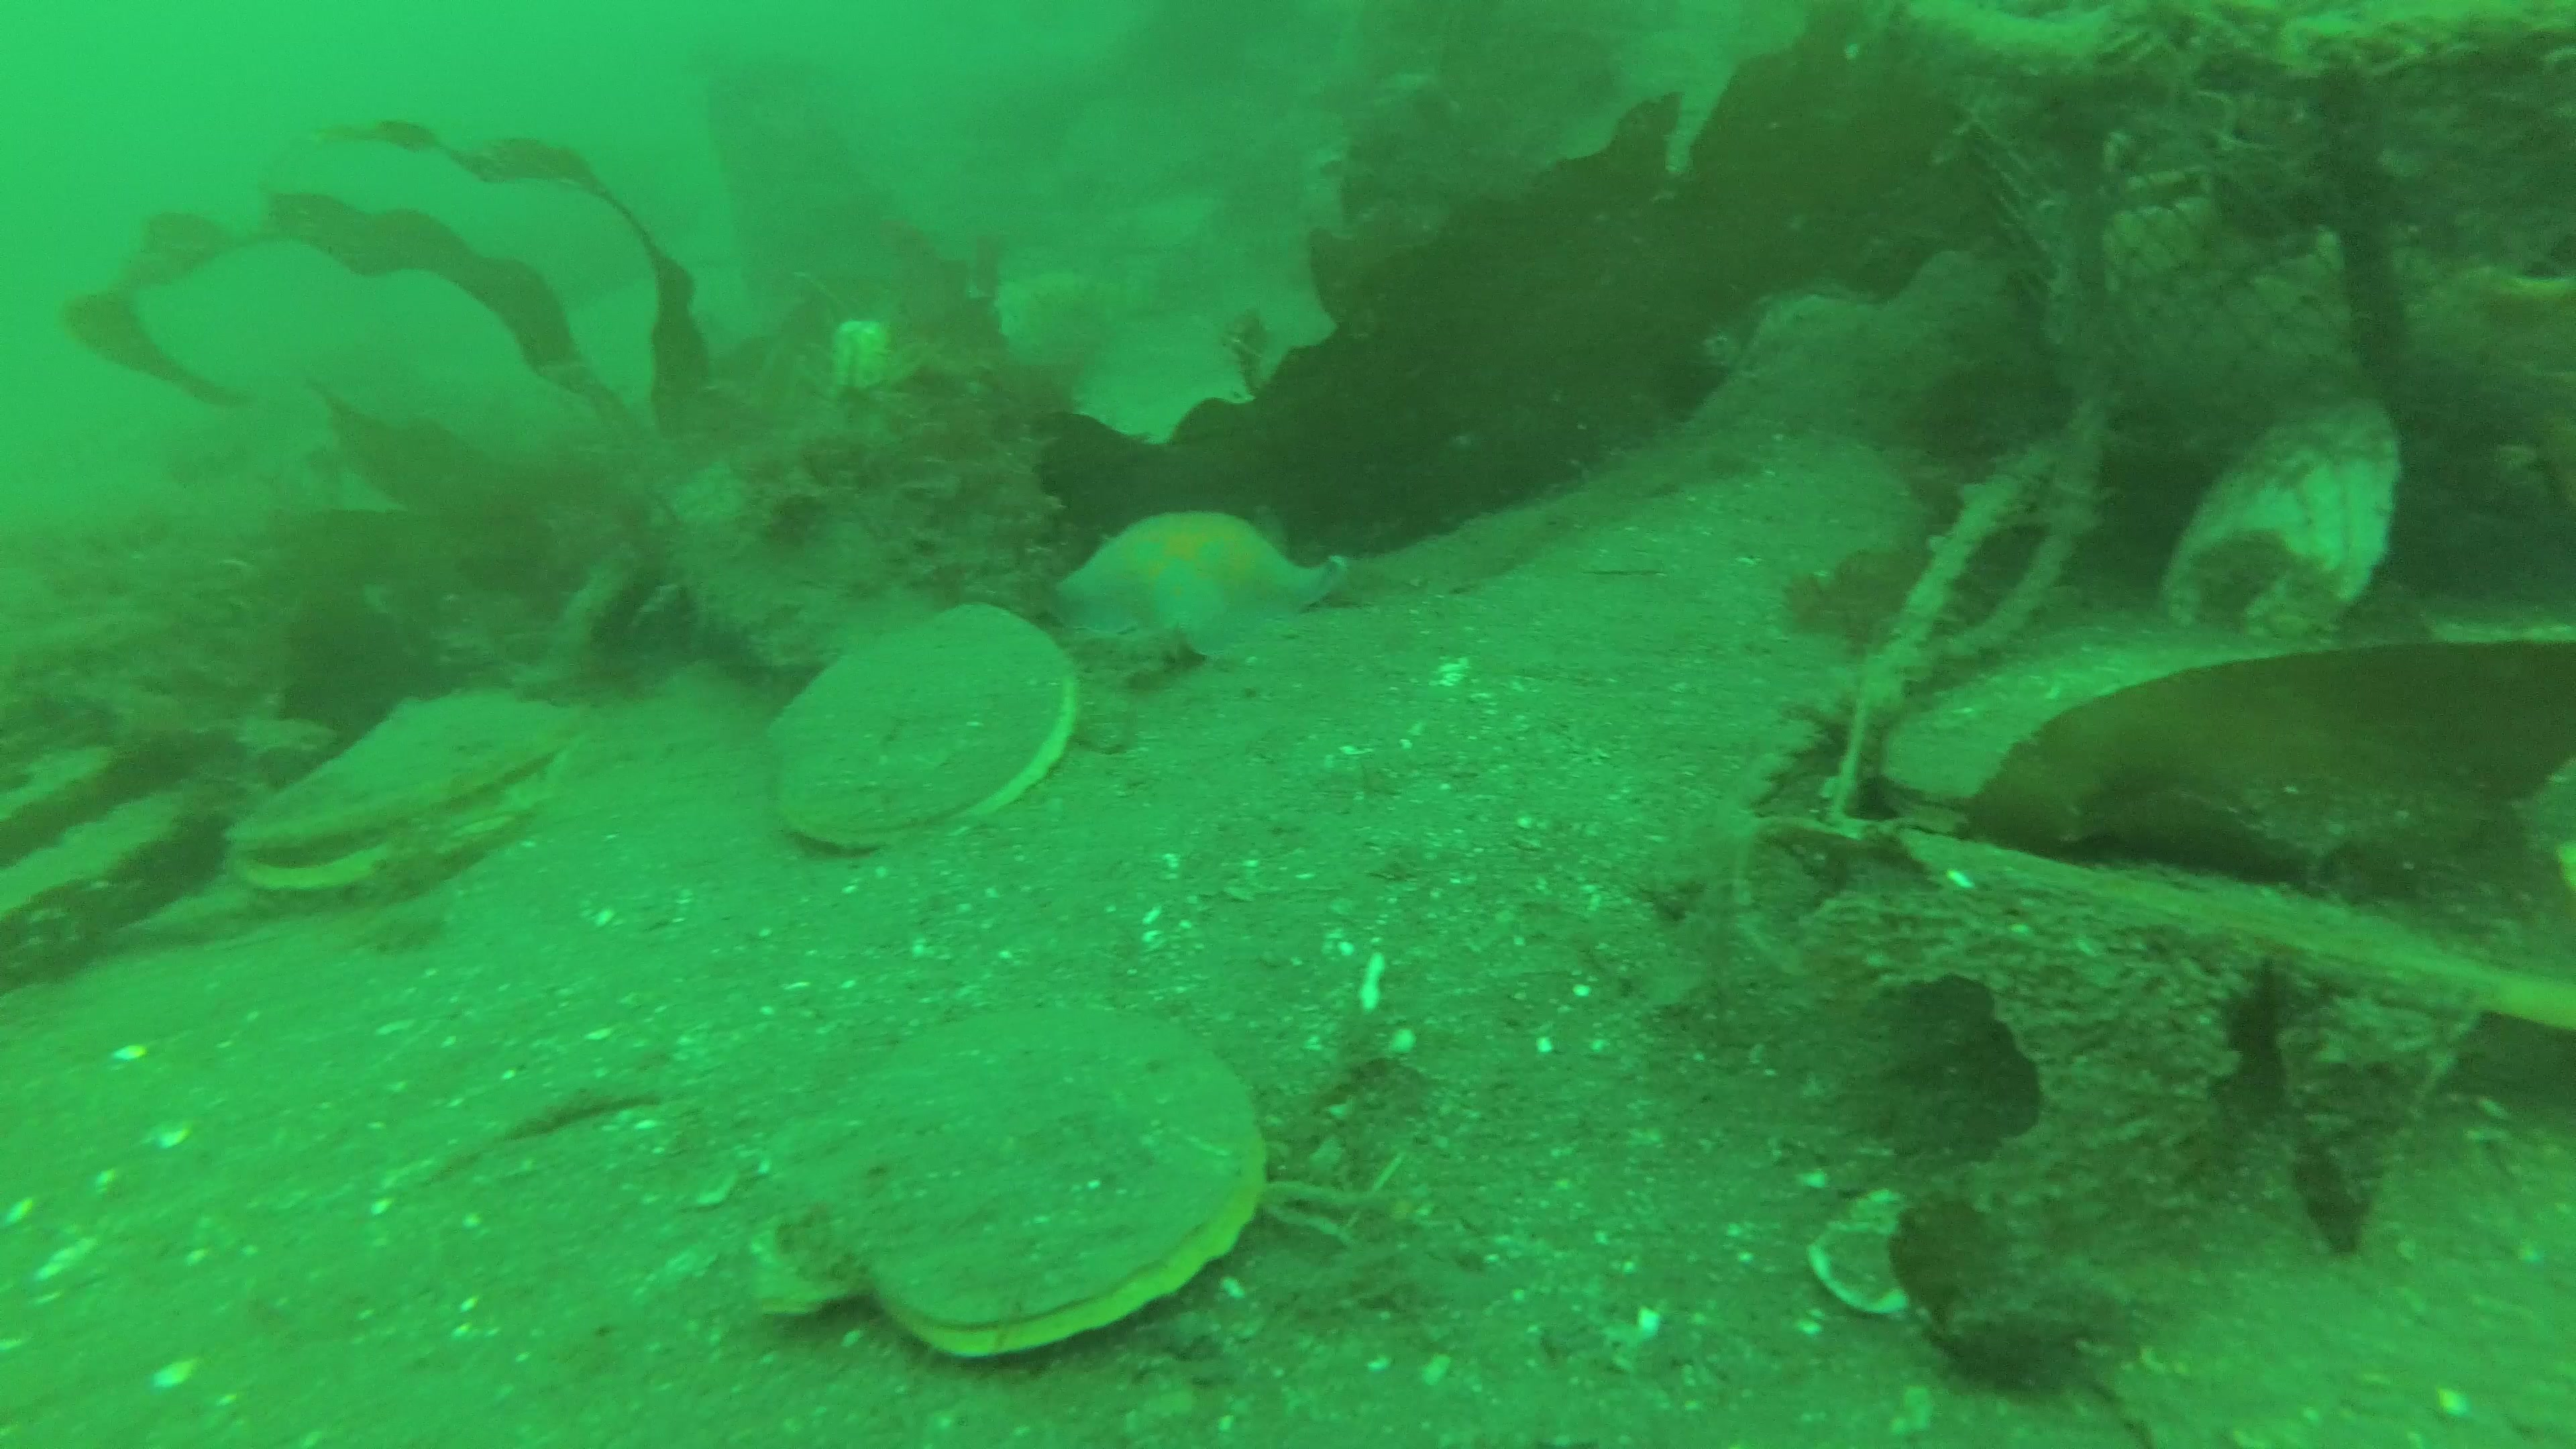scallop: (778, 1012, 1265, 1361), (757, 607, 1085, 856), (221, 678, 586, 899)
starfish: (1060, 504, 1357, 676)
